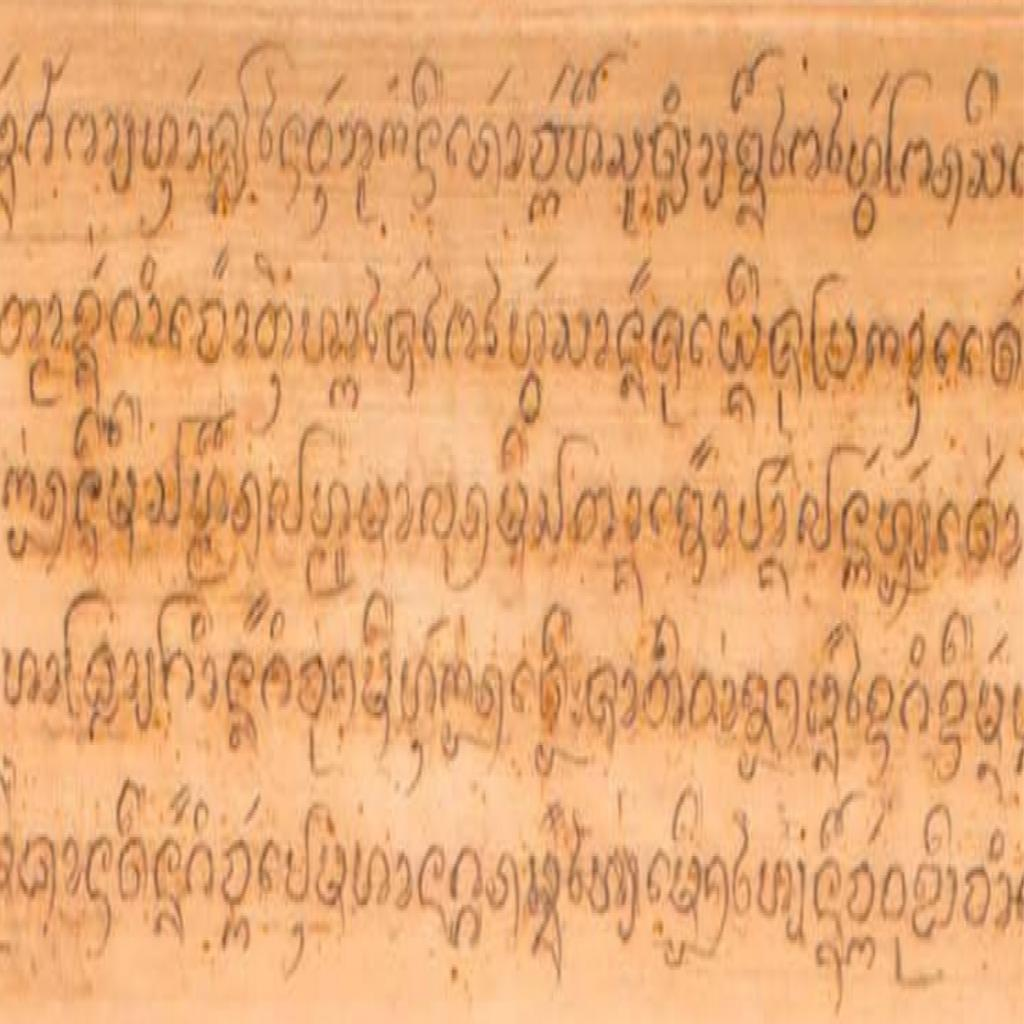LN006: (219, 832, 256, 915)
